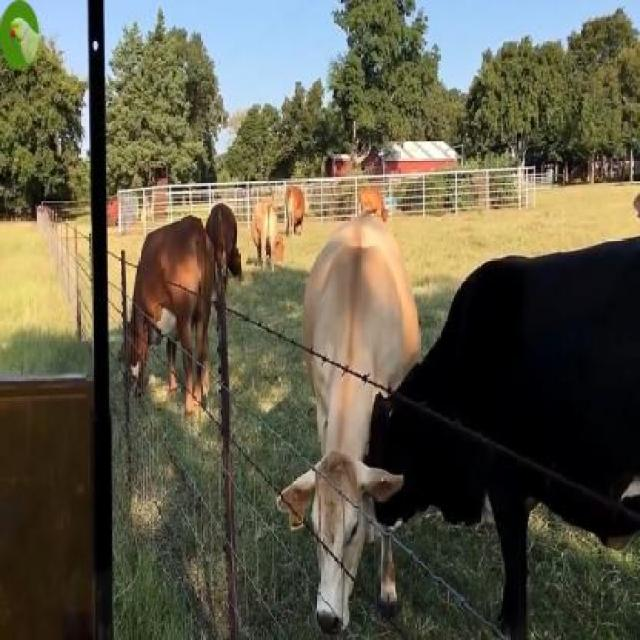Cow: (277, 222, 420, 638), (125, 214, 212, 415)
